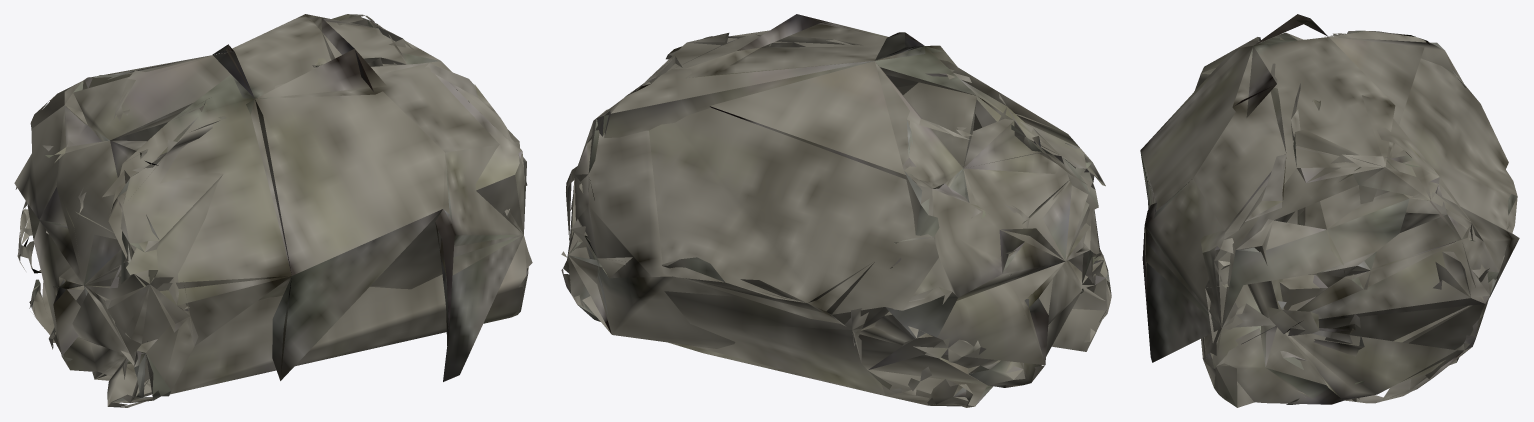
Rendered from sandbags_285817317_lod0m.glb.
The picture shows the model from 3 angles, left to right: view 1: azimuth 30°, elevation 25°; view 2: azimuth 150°, elevation 25°; view 3: azimuth 270°, elevation 25°; orthographic projection. The views are drawn at different scales.
Size of the model in its own units: 2.6 by 1.8 by 2.19.
1 material, 1 textured.
